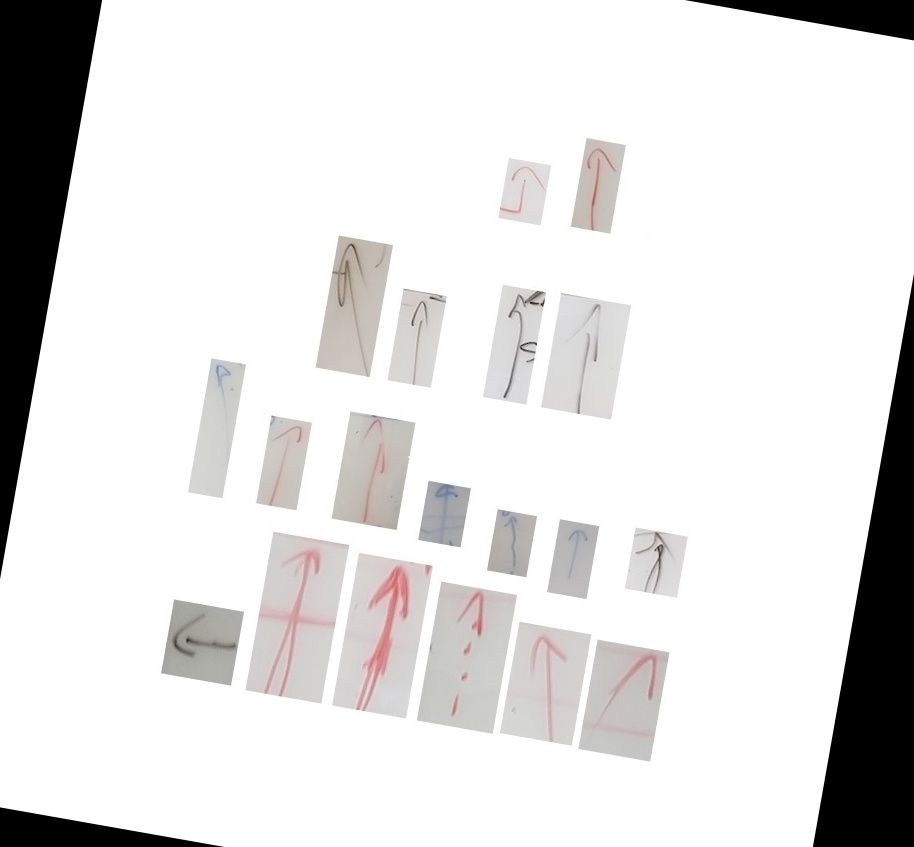arrow: (187, 531, 278, 687), (284, 556, 366, 673), (102, 571, 177, 698), (257, 234, 333, 345), (485, 295, 558, 399), (373, 581, 442, 683), (280, 409, 348, 507), (451, 625, 518, 719), (524, 642, 600, 720), (425, 284, 481, 383), (194, 413, 250, 498), (325, 292, 384, 370), (513, 139, 561, 214), (566, 527, 623, 583), (490, 517, 539, 582), (139, 357, 184, 424), (359, 476, 410, 532), (428, 508, 473, 565), (442, 157, 487, 203)
